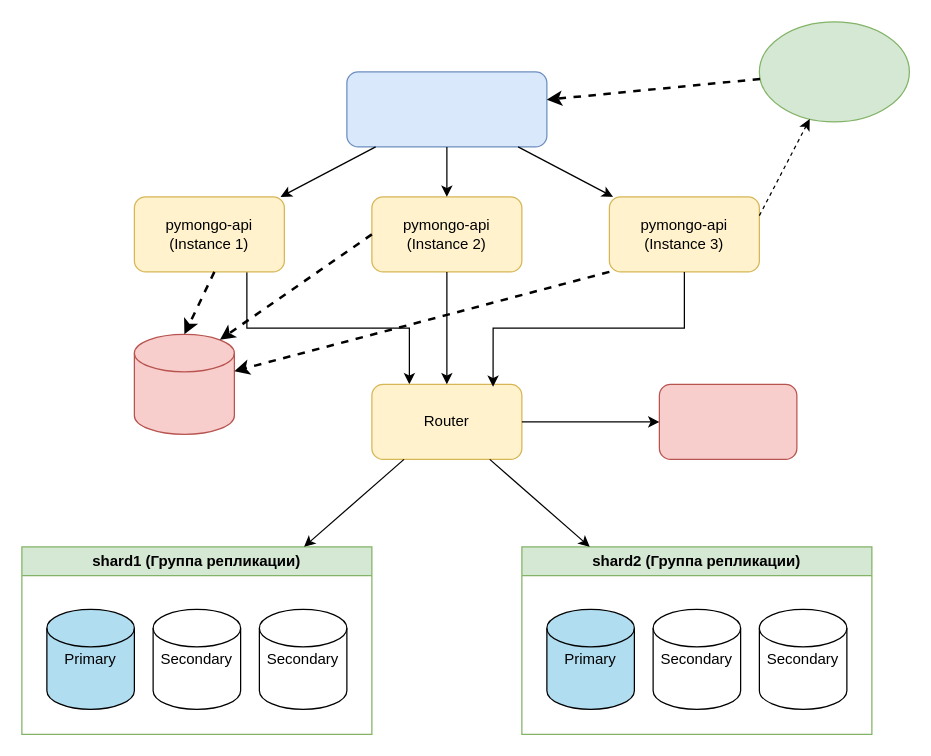
The diagram is 931 pixels wide and 756 high, and some of its shapes have lost their labels. The centre of each missing label's shape, as x and y in pixels:
"API Gateway / Load Balancer (Nginx)" belongs at point 446,109.
"configSrv" belongs at point 727,421.
"Consul (Service Discovery)" belongs at point 833,71.
"redis" belongs at point 183,383.
